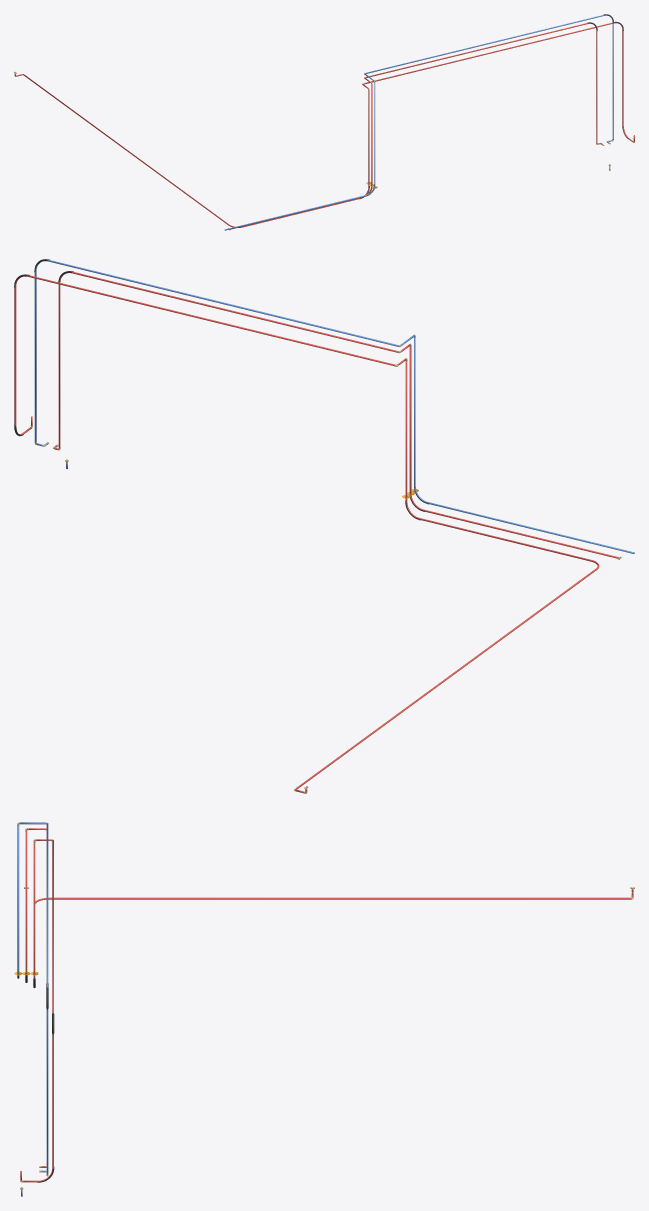
Rendered from pipes_supply__water_heater-garage_tankless+garage_tankless_noncondensing_and_plumbing-pex.glb.
3 renders of one model, top to bottom at view 1: azimuth 30°, elevation 25°; view 2: azimuth 150°, elevation 25°; view 3: azimuth 270°, elevation 25°, orthographic. The views are drawn at different scales.
Parts seen in each view (by area): view 1: pipe_supply_recirc_return__pex, pipe_supply_cold_wh_tankless__pex, pipe_supply_hot_wh_tankless__pex; view 2: pipe_supply_recirc_return__pex, pipe_supply_hot_wh_tankless__pex, pipe_supply_cold_wh_tankless__pex; view 3: pipe_supply_recirc_return__pex, pipe_supply_cold_wh_tankless__pex.
Part boxes in pixels (<box>): pipe_supply_recirc_return__pex: <box>14,22,634,227</box>; pipe_supply_cold_wh_tankless__pex: <box>224,15,613,230</box>; pipe_supply_hot_wh_tankless__pex: <box>231,23,602,229</box>; pipe_supply_recirc_return__pex: <box>14,275,599,793</box>; pipe_supply_hot_wh_tankless__pex: <box>54,272,618,558</box>; pipe_supply_cold_wh_tankless__pex: <box>34,260,634,553</box>; pipe_supply_recirc_return__pex: <box>20,839,633,1182</box>; pipe_supply_cold_wh_tankless__pex: <box>17,822,48,1174</box>.
Bounding box in the file's own units: 8.32 × 2.88 × 7.68.
